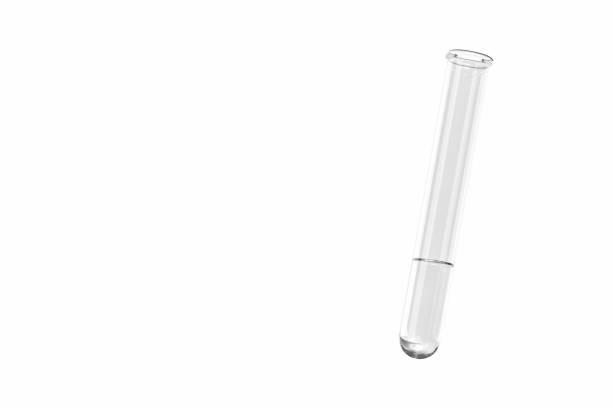Test tube: (402, 34, 506, 356)
